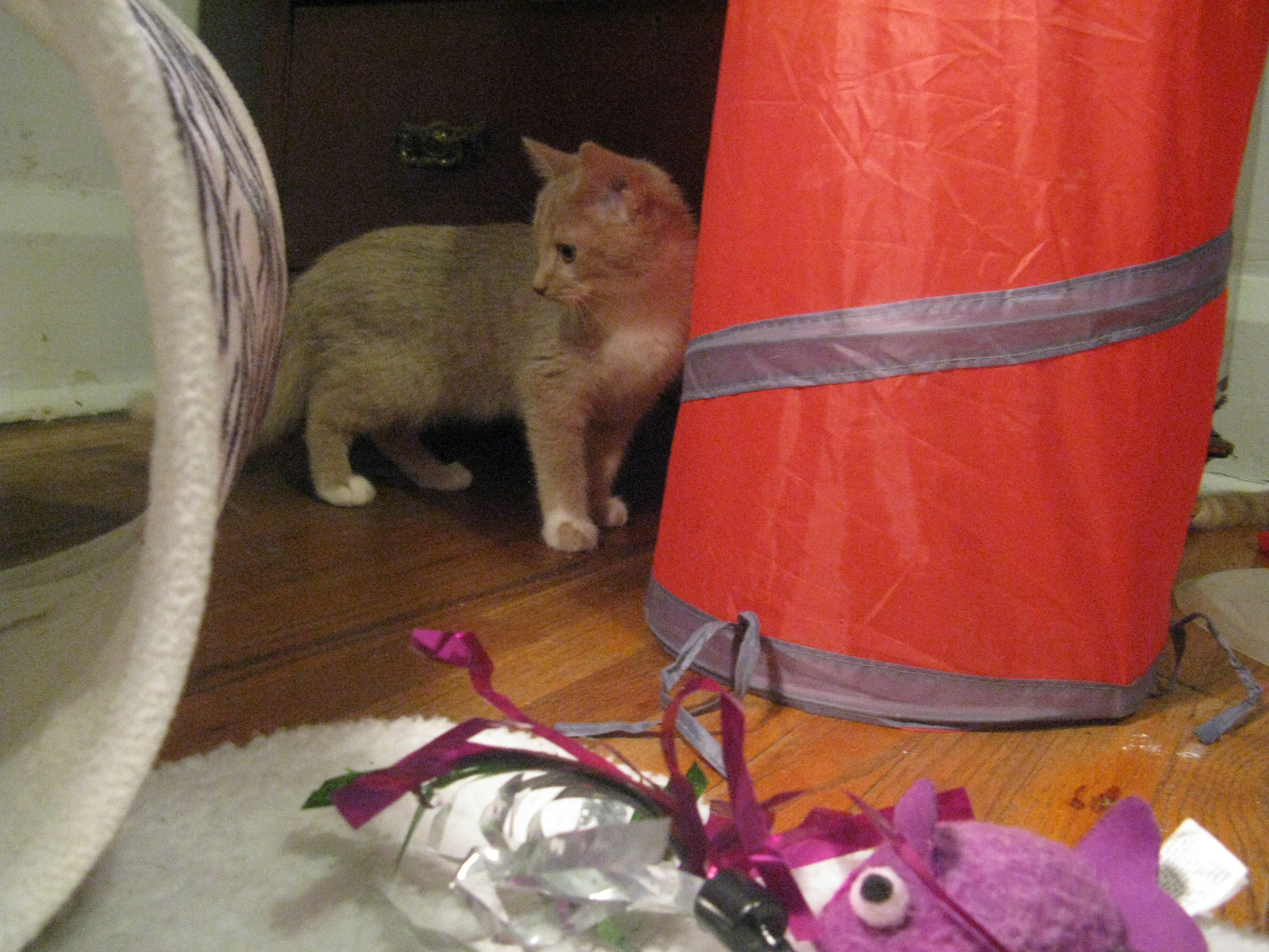cat: (230, 128, 683, 558)
